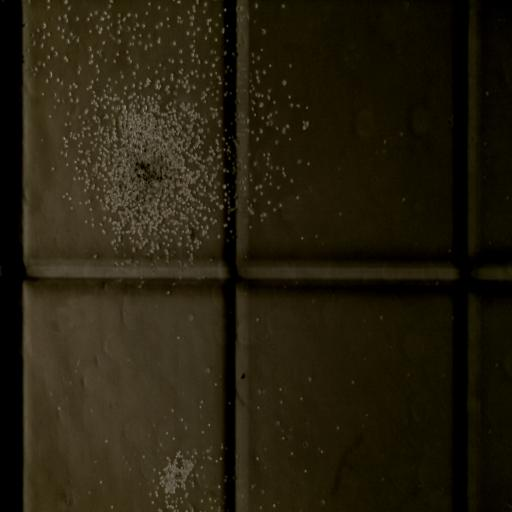CFU-GM: (78, 50, 224, 255), (160, 451, 194, 493)
